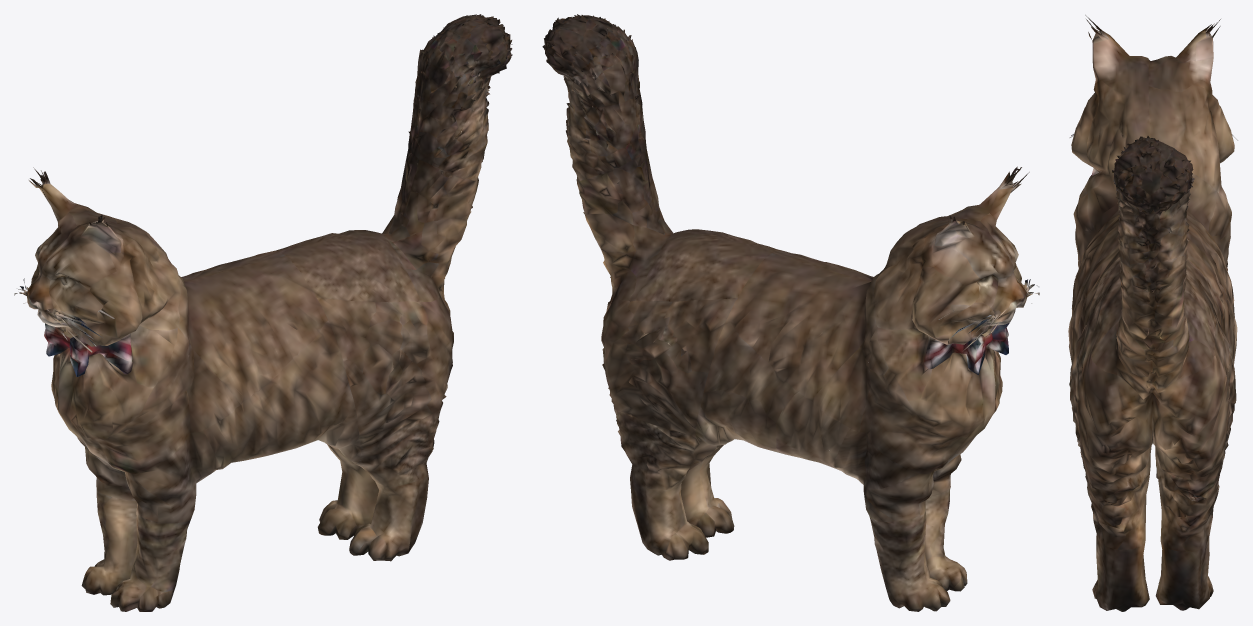
File: HANK4SEN-lo.glb
3 renders of one model, left to right at view 1: azimuth 30°, elevation 25°; view 2: azimuth 150°, elevation 25°; view 3: azimuth 270°, elevation 25°, orthographic. The views are drawn at different scales.
Visible parts, largest first — view 1: tripo_node_e20af898-f5bf-4321-bd53-08f81b6b3042; view 2: tripo_node_e20af898-f5bf-4321-bd53-08f81b6b3042; view 3: tripo_node_e20af898-f5bf-4321-bd53-08f81b6b3042.
Boxes of the visible parts, x1=… form: tripo_node_e20af898-f5bf-4321-bd53-08f81b6b3042: x1=14, y1=14, x2=512, y2=611; tripo_node_e20af898-f5bf-4321-bd53-08f81b6b3042: x1=542, y1=14, x2=1039, y2=611; tripo_node_e20af898-f5bf-4321-bd53-08f81b6b3042: x1=1068, y1=15, x2=1237, y2=611.
Bounding box in the file's own units: 0.9956 × 0.9999 × 0.2983.
Materials: 1 (1 with a texture image).
